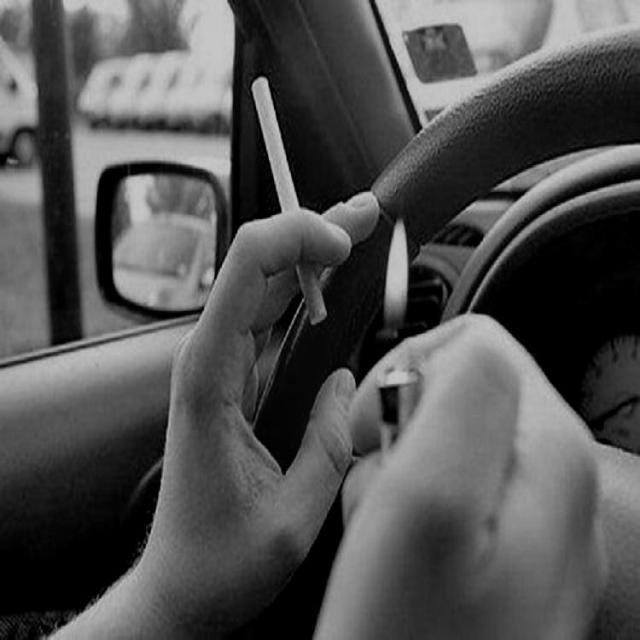Cigarette: (240, 67, 344, 317)
